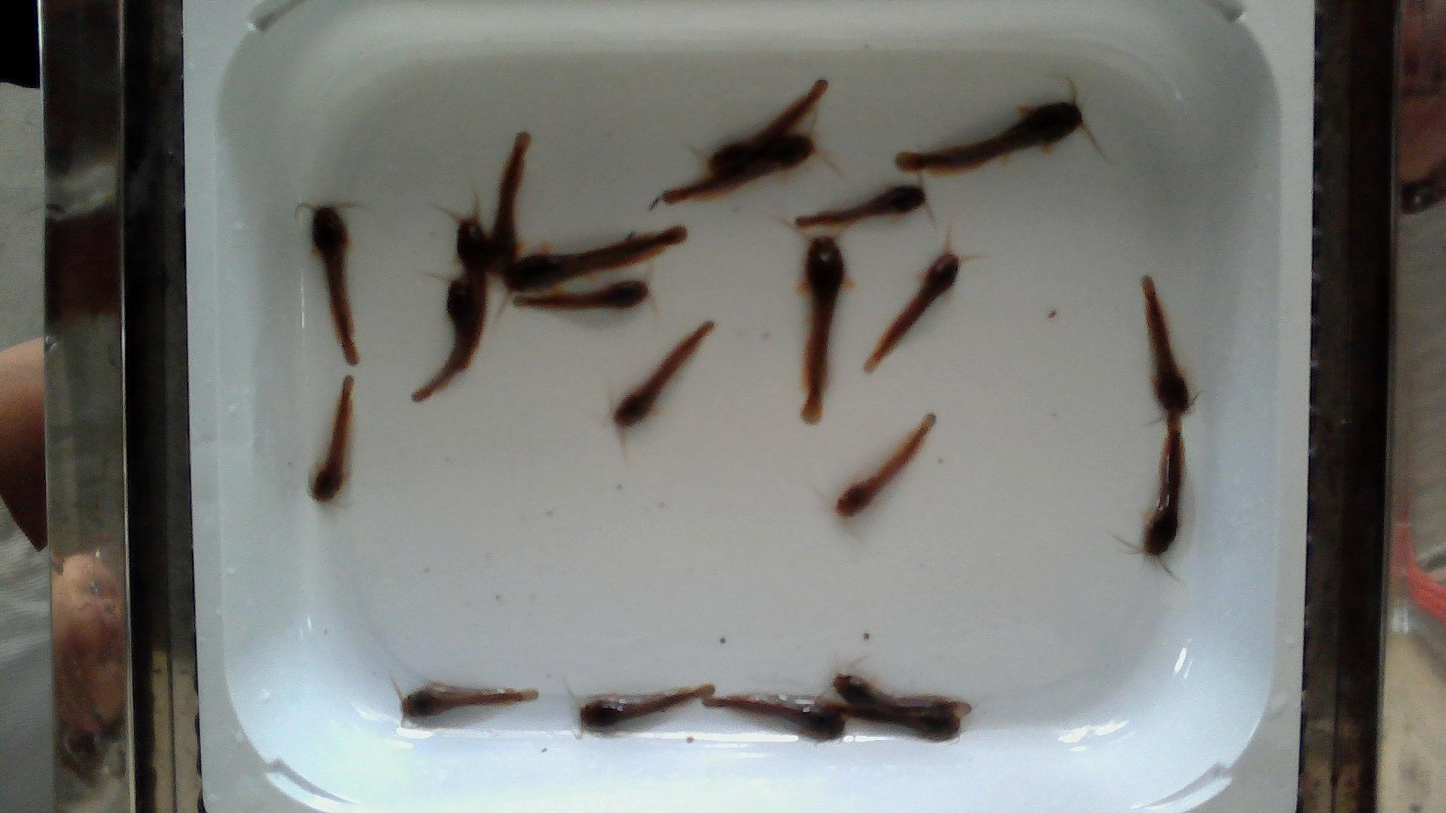lele: (896, 100, 1082, 173), (702, 78, 828, 178), (865, 251, 959, 372), (505, 227, 686, 289), (658, 137, 816, 207), (613, 322, 713, 428), (835, 414, 935, 517), (801, 236, 844, 423), (409, 282, 474, 401), (313, 207, 358, 364), (702, 693, 849, 741), (1143, 276, 1191, 419), (485, 133, 532, 272), (832, 670, 973, 714), (580, 684, 715, 728), (823, 702, 964, 744), (1146, 411, 1185, 555), (797, 185, 925, 228), (312, 376, 352, 502), (457, 218, 486, 369), (402, 684, 538, 716), (514, 279, 648, 309)
